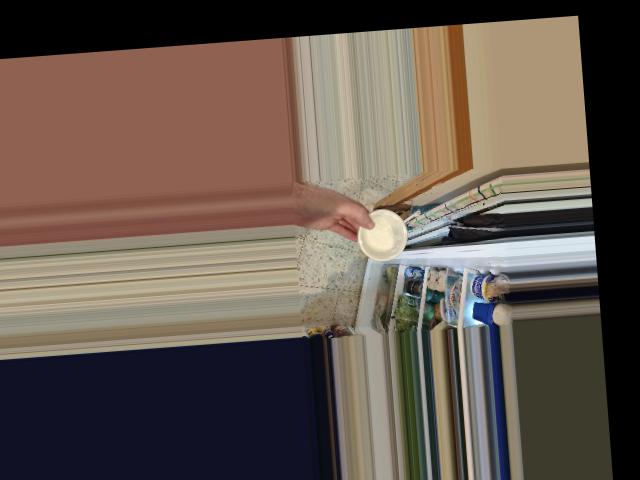cotage: (362, 210, 409, 259)
